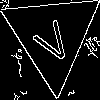V: (27, 11, 75, 68)
